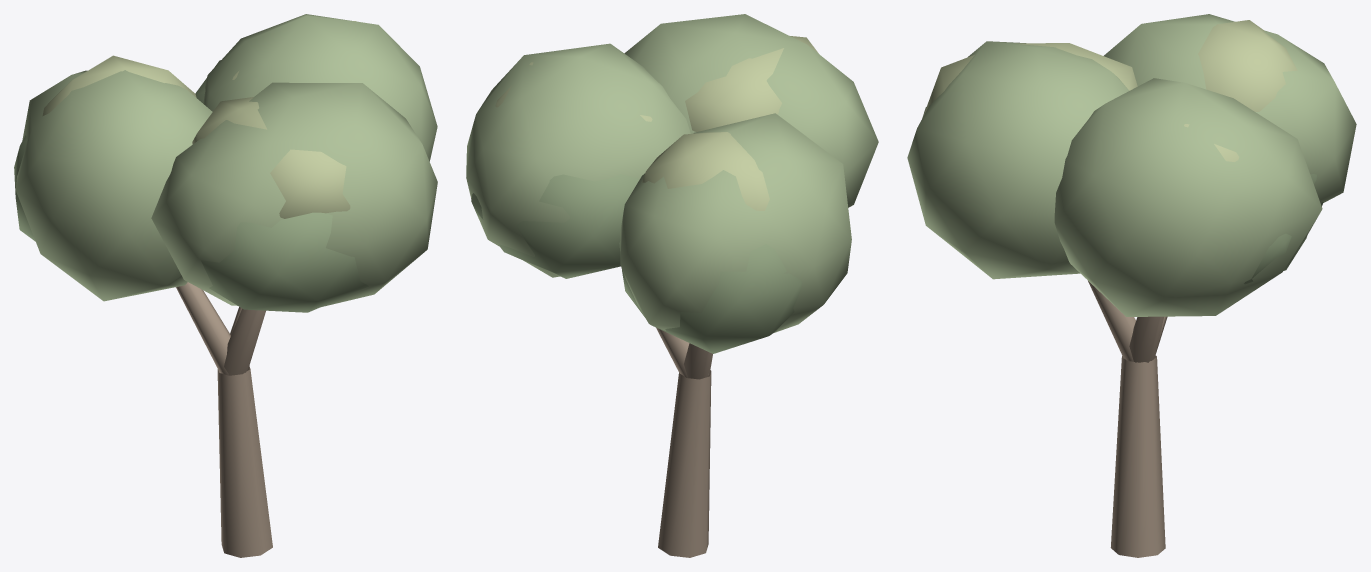
Rendered from tree_ceibo_6.glb.
3 views of the same model, side by side, from view 1: azimuth 30°, elevation 25°; view 2: azimuth 150°, elevation 25°; view 3: azimuth 270°, elevation 25° (orthographic). The views are drawn at different scales.
Visible parts, largest first — view 1: tree_ceibo_6.glb; view 2: tree_ceibo_6.glb; view 3: tree_ceibo_6.glb.
Part boxes in pixels (box(x1,y1,x2,y2)): tree_ceibo_6.glb: box(14, 14, 437, 557); tree_ceibo_6.glb: box(466, 14, 878, 557); tree_ceibo_6.glb: box(907, 14, 1356, 557).
Bounding box in the file's own units: 4.02 × 5.11 × 4.09.
